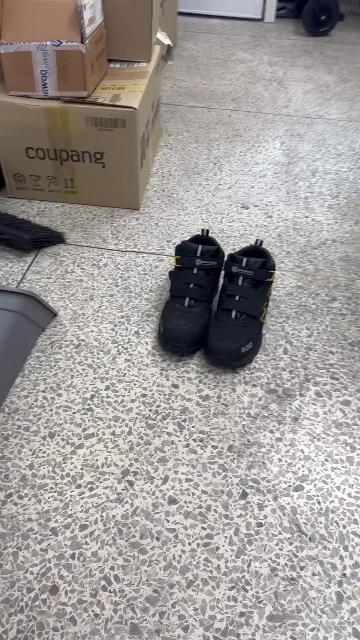shoe_worn: (201, 234, 284, 371), (159, 231, 224, 358)
